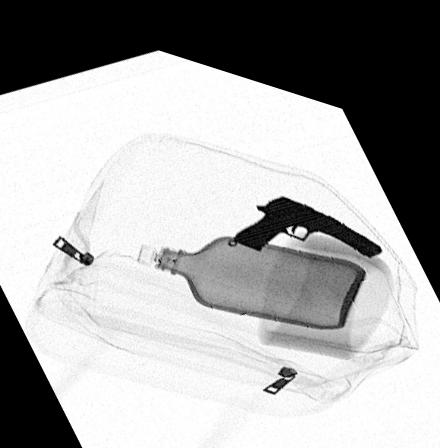Gun: (233, 176, 384, 235)
